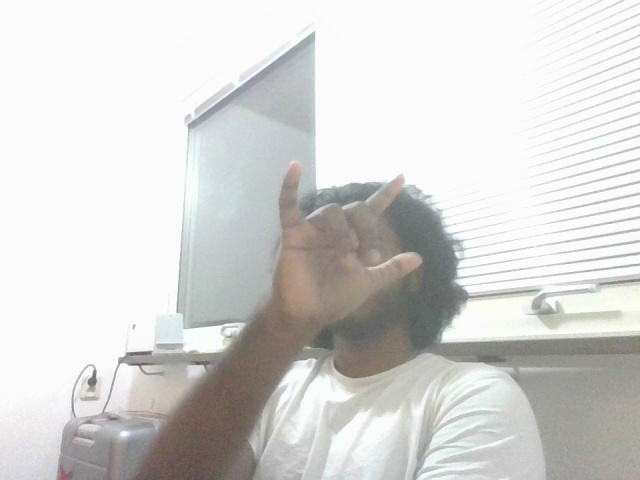I Love You: (274, 154, 426, 332)
